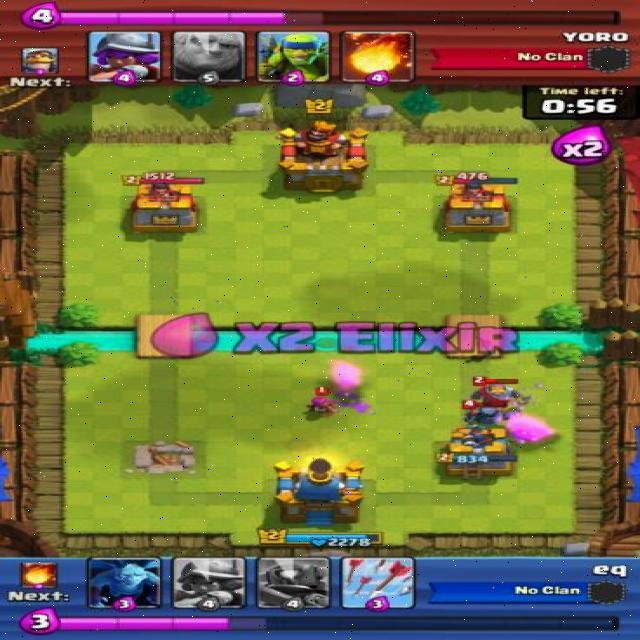EArcher: (313, 389, 336, 418)
EKingTower: (279, 122, 372, 197)
EKnight: (472, 383, 534, 405)
EMiniPeka: (461, 402, 513, 427)
EnemyPrincessTower: (134, 181, 205, 233), (446, 180, 513, 233)
OwnKingTower: (271, 464, 376, 527)
OwnPrincessTower: (443, 434, 513, 484)
TowerDown: (119, 439, 215, 479)
